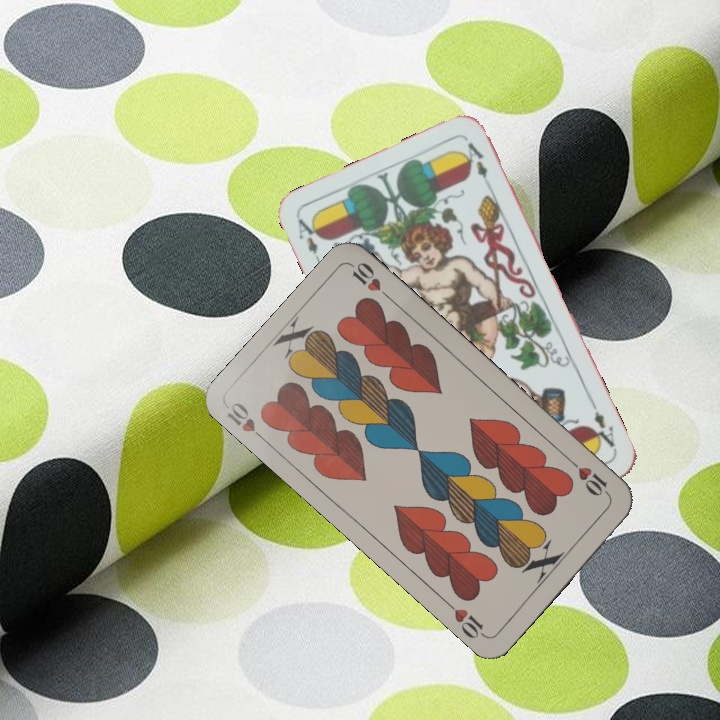EA: (585, 398, 619, 453), (294, 214, 325, 270)
H10: (222, 398, 271, 446), (565, 455, 613, 499)
